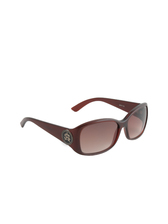glasses: (20, 98, 153, 156)
